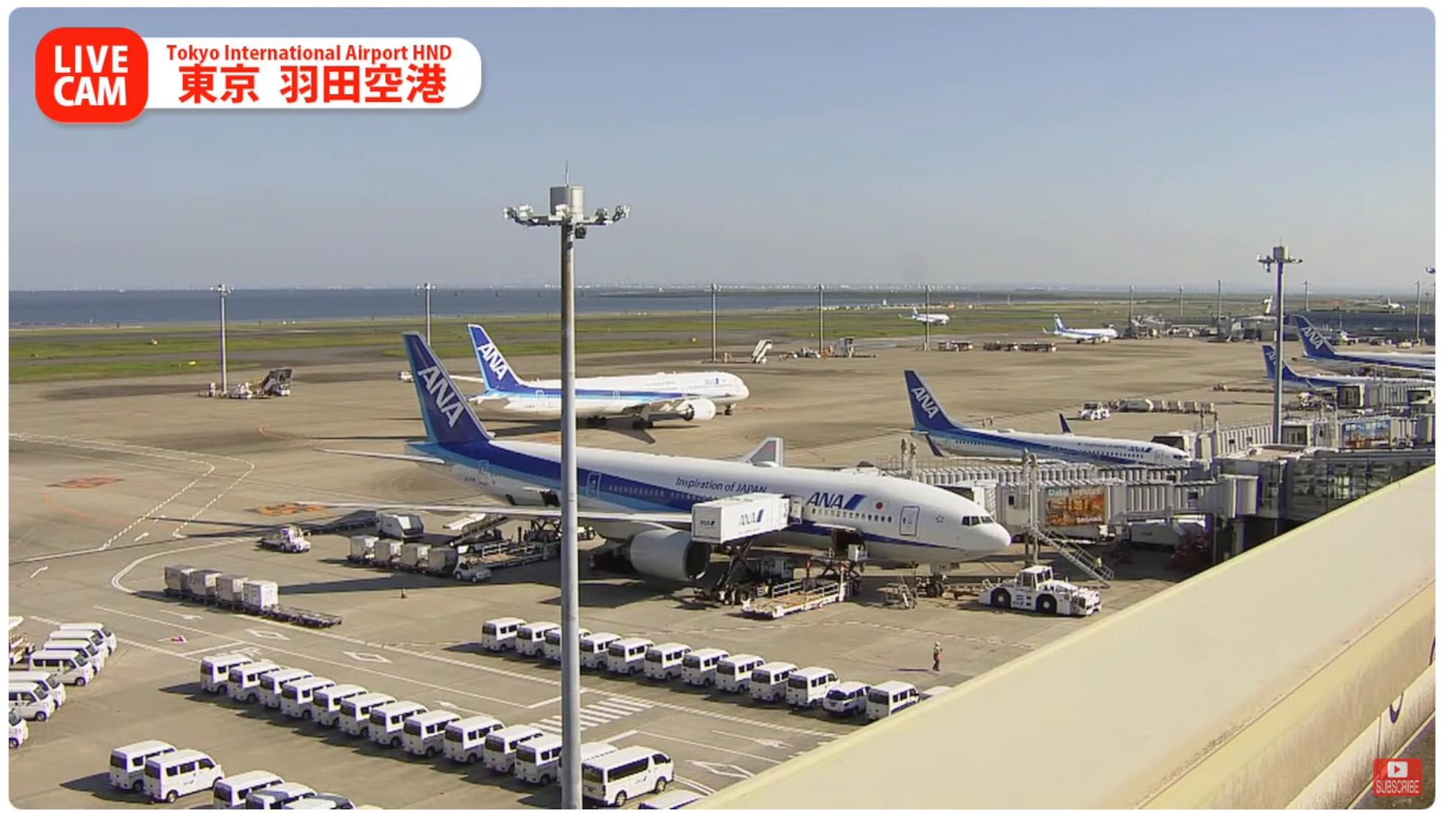APS: (982, 565, 1107, 615)
Aerobridge: (880, 463, 1198, 520), (990, 479, 1258, 539)
Airplane: (308, 328, 1018, 599)
Baggage truck: (376, 510, 429, 539)
Catering: (686, 489, 792, 606)
Dolly: (162, 563, 348, 636), (346, 535, 457, 580)
JCPL: (738, 555, 854, 623), (480, 504, 562, 572)
Skyloader: (444, 505, 507, 558)
Tractor: (252, 523, 312, 557), (453, 557, 498, 585)
Window: (1281, 462, 1437, 524)
